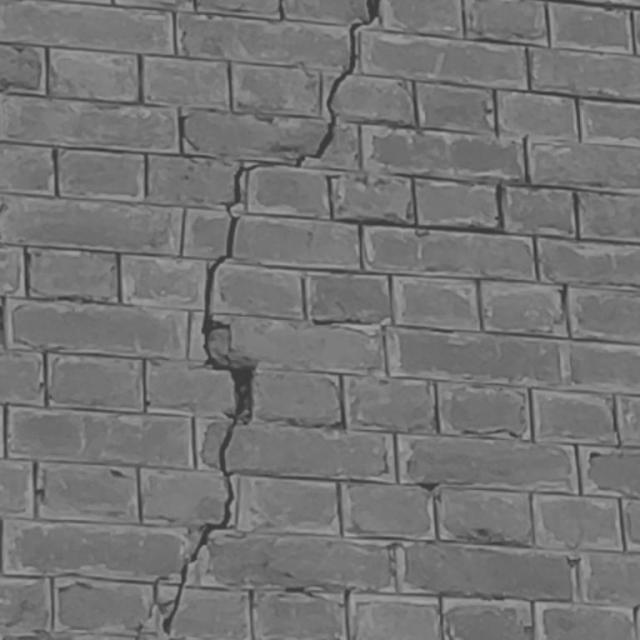crack: (138, 1, 380, 640)
